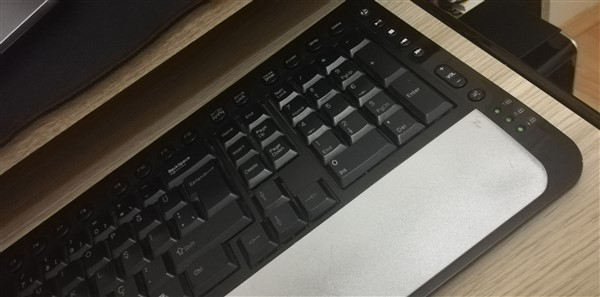klavye: (3, 1, 584, 297)
